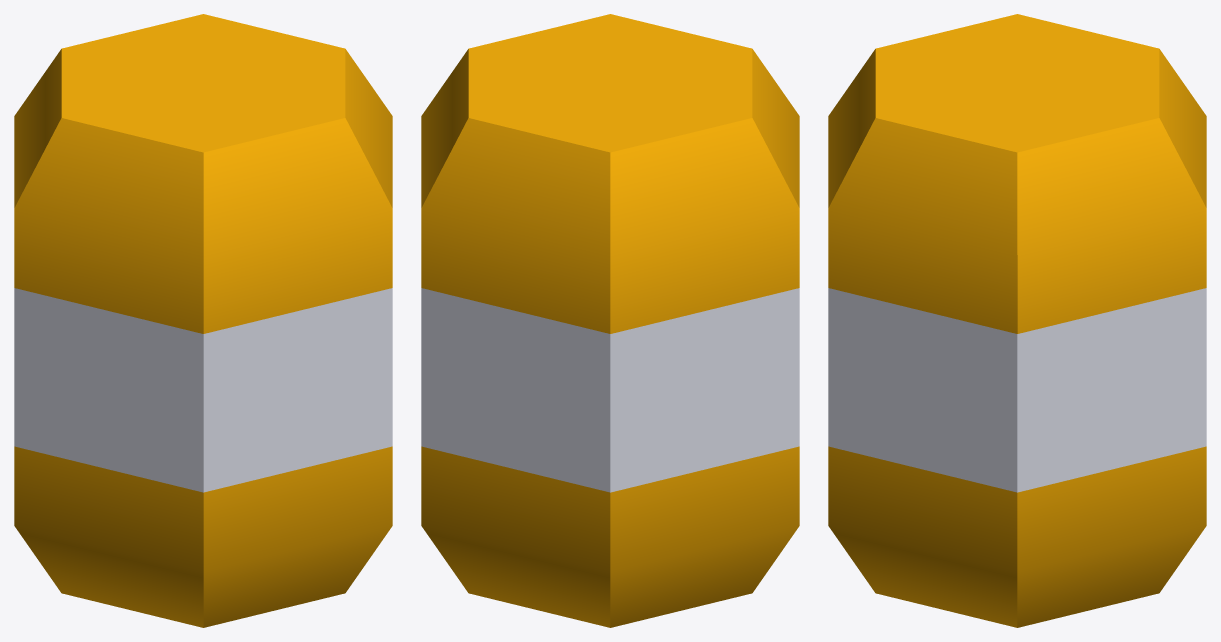
The model's file is Tank.fbx.
3 views of the same model, side by side, from view 1: azimuth 30°, elevation 25°; view 2: azimuth 150°, elevation 25°; view 3: azimuth 270°, elevation 25° (orthographic).
Visible parts, largest first — view 1: mergedBlocks; view 2: mergedBlocks; view 3: mergedBlocks.
Boxes of the visible parts, <box> form: mergedBlocks: <box>14,14,392,627</box>; mergedBlocks: <box>421,14,799,627</box>; mergedBlocks: <box>828,14,1206,627</box>.
Size of the model in its own units: 5 by 6 by 4.33.
